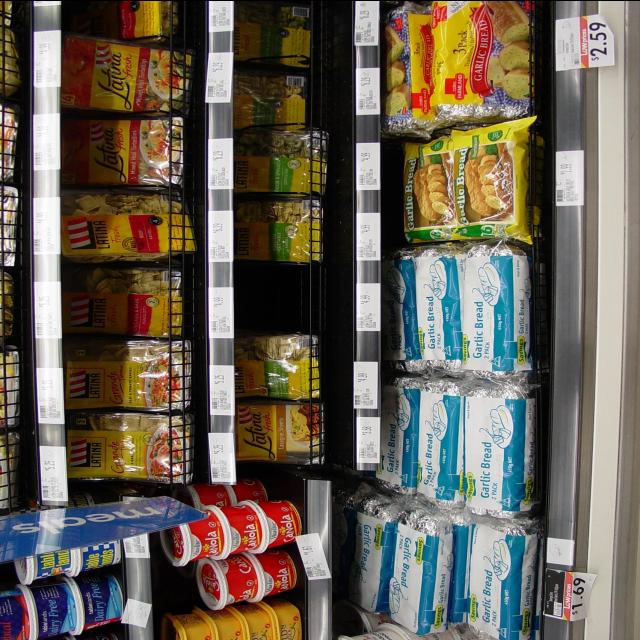empty_space: (250, 276, 318, 324)
